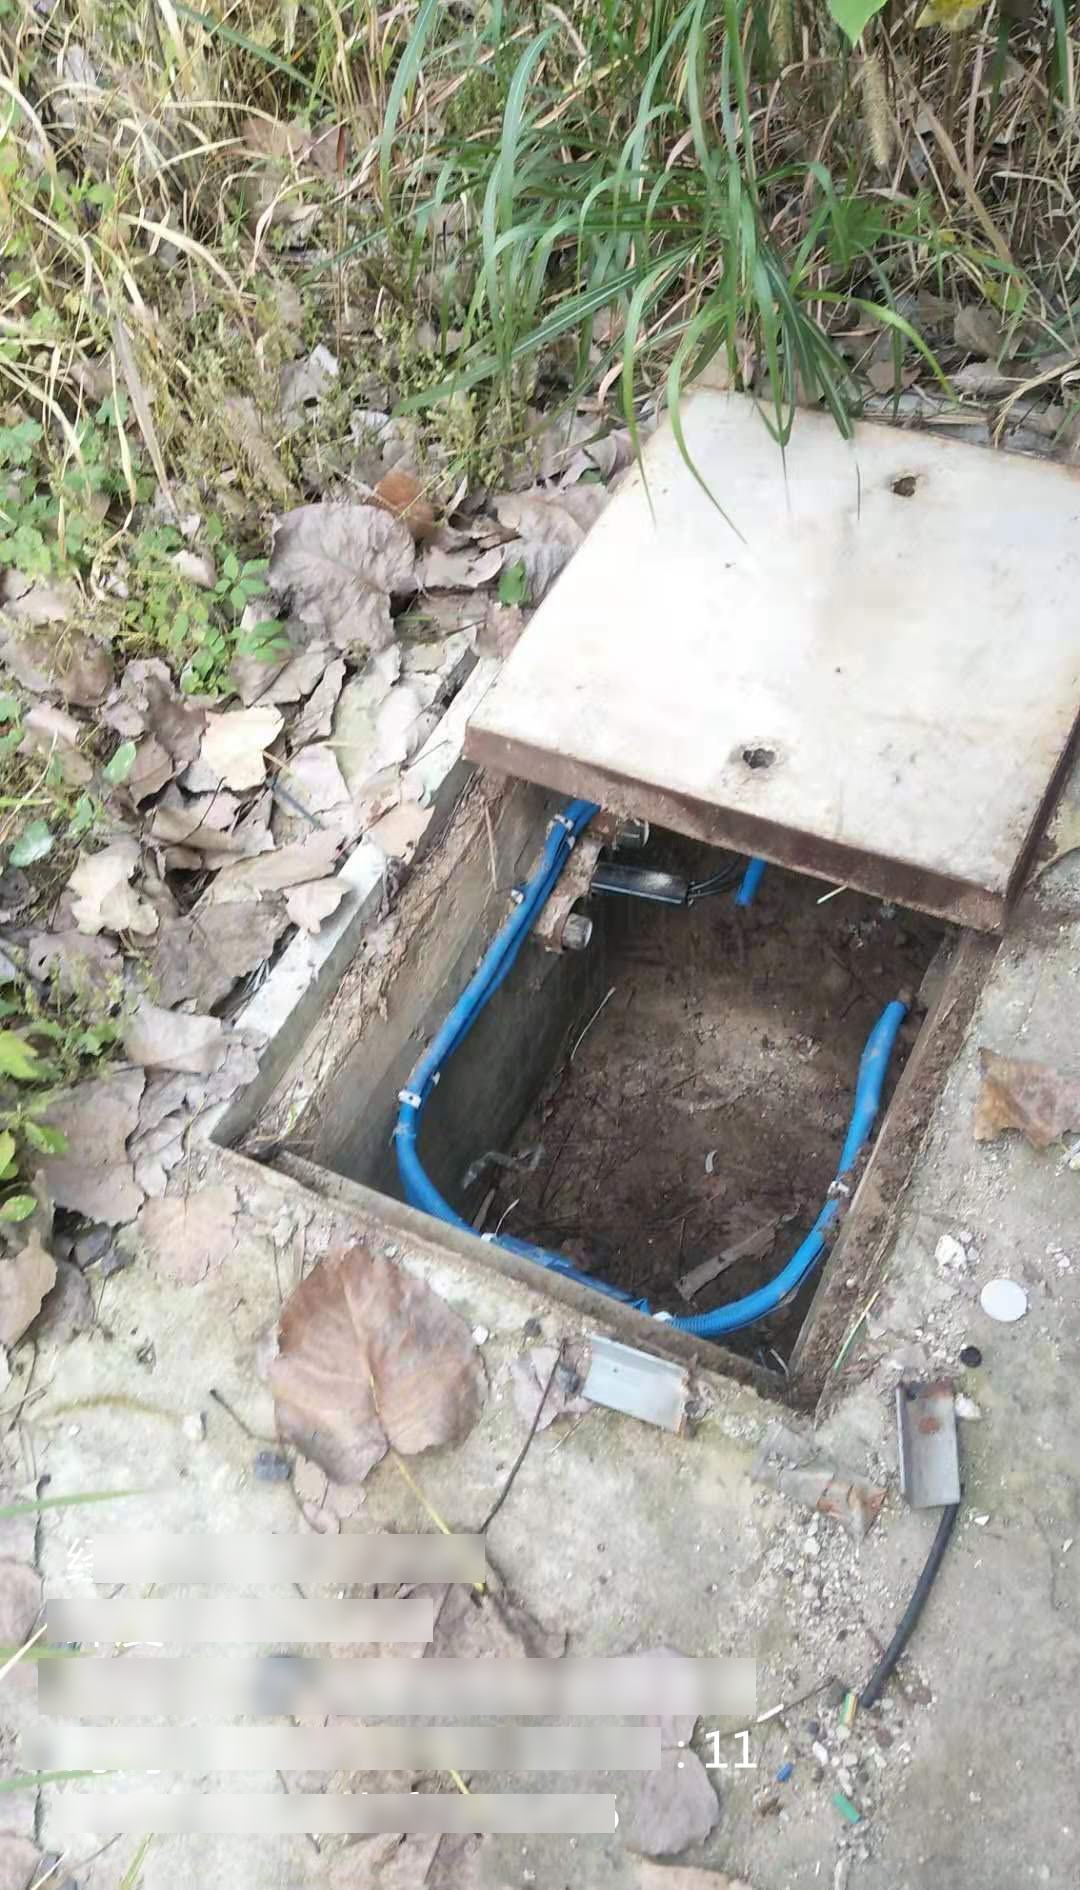uncovered: (188, 383, 1080, 1432)
